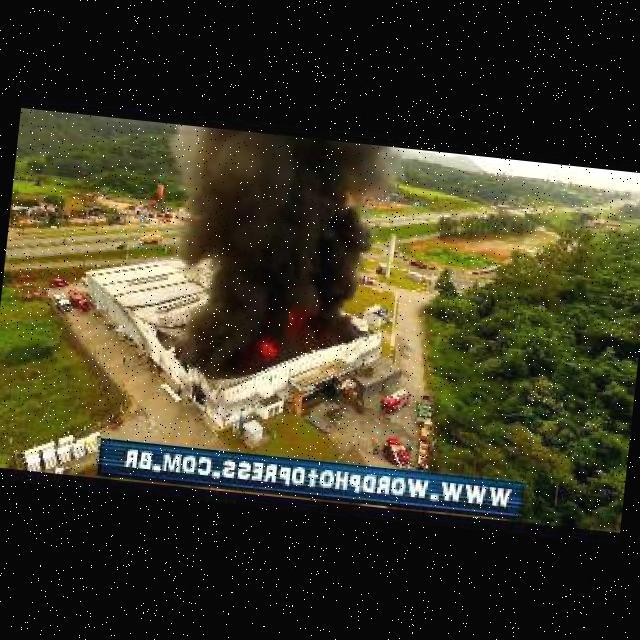Fire: (254, 338, 280, 362)
Smoke: (155, 126, 391, 385)
